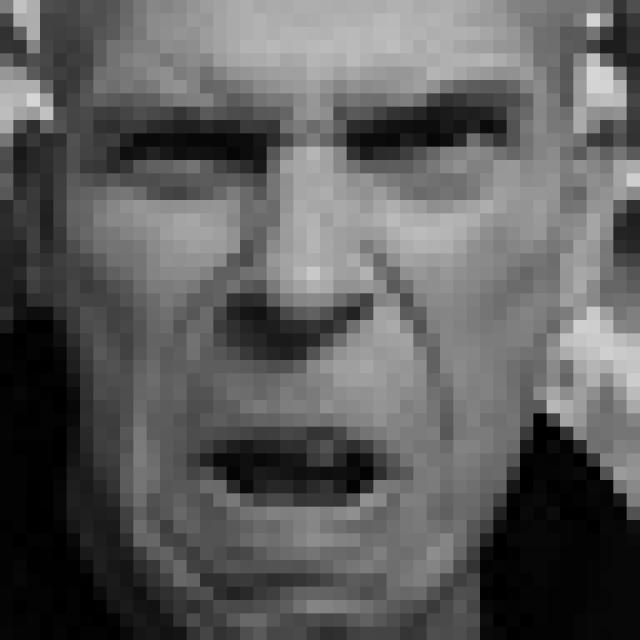angry: (96, 68, 522, 558)
